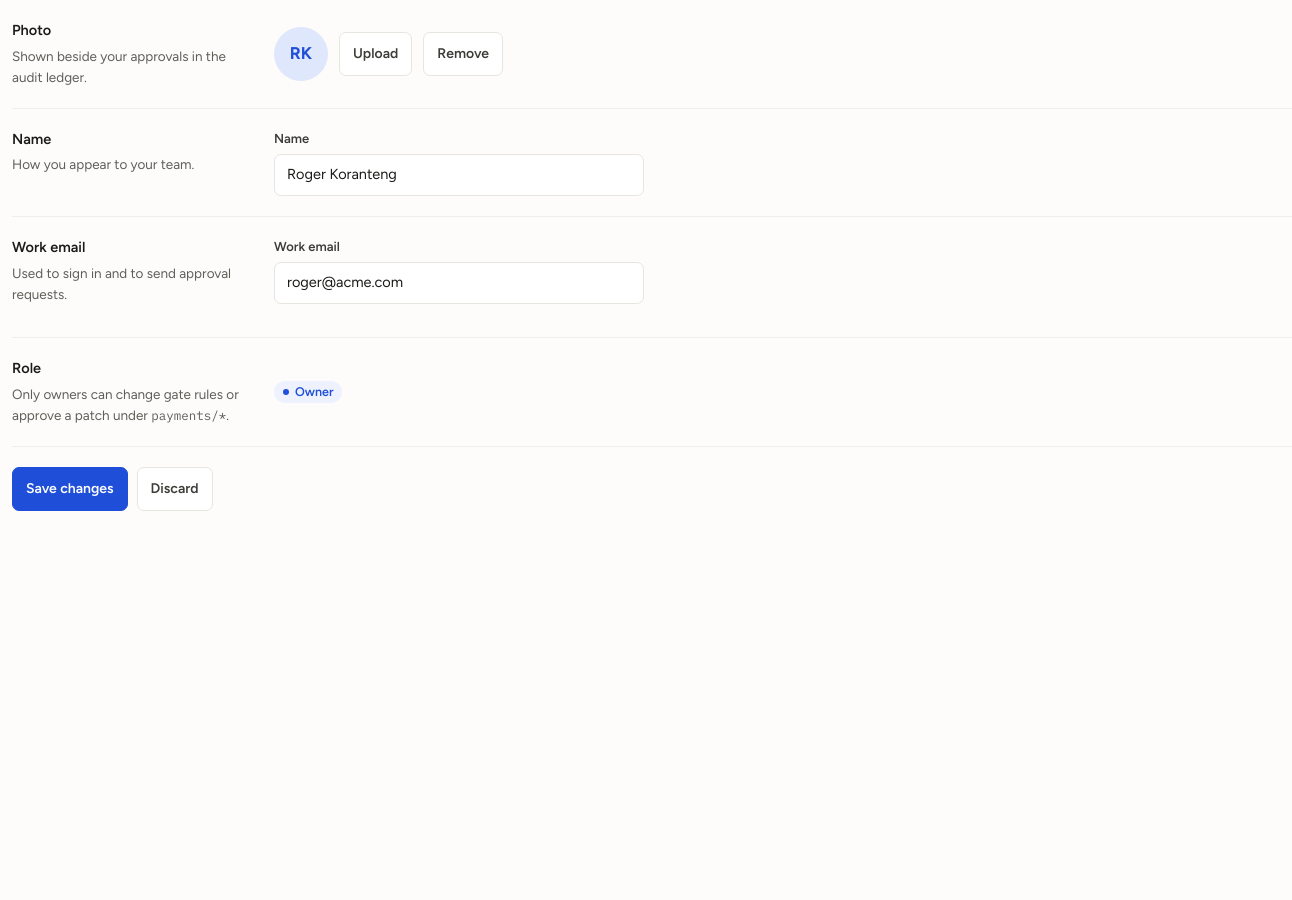
Test: a demo session saving the profile is told nothing was saved, not given the real success toast
This screenshot has width=1292, height=900.
Click the button "Save changes" at (70, 489), box [12, 467, 128, 511]
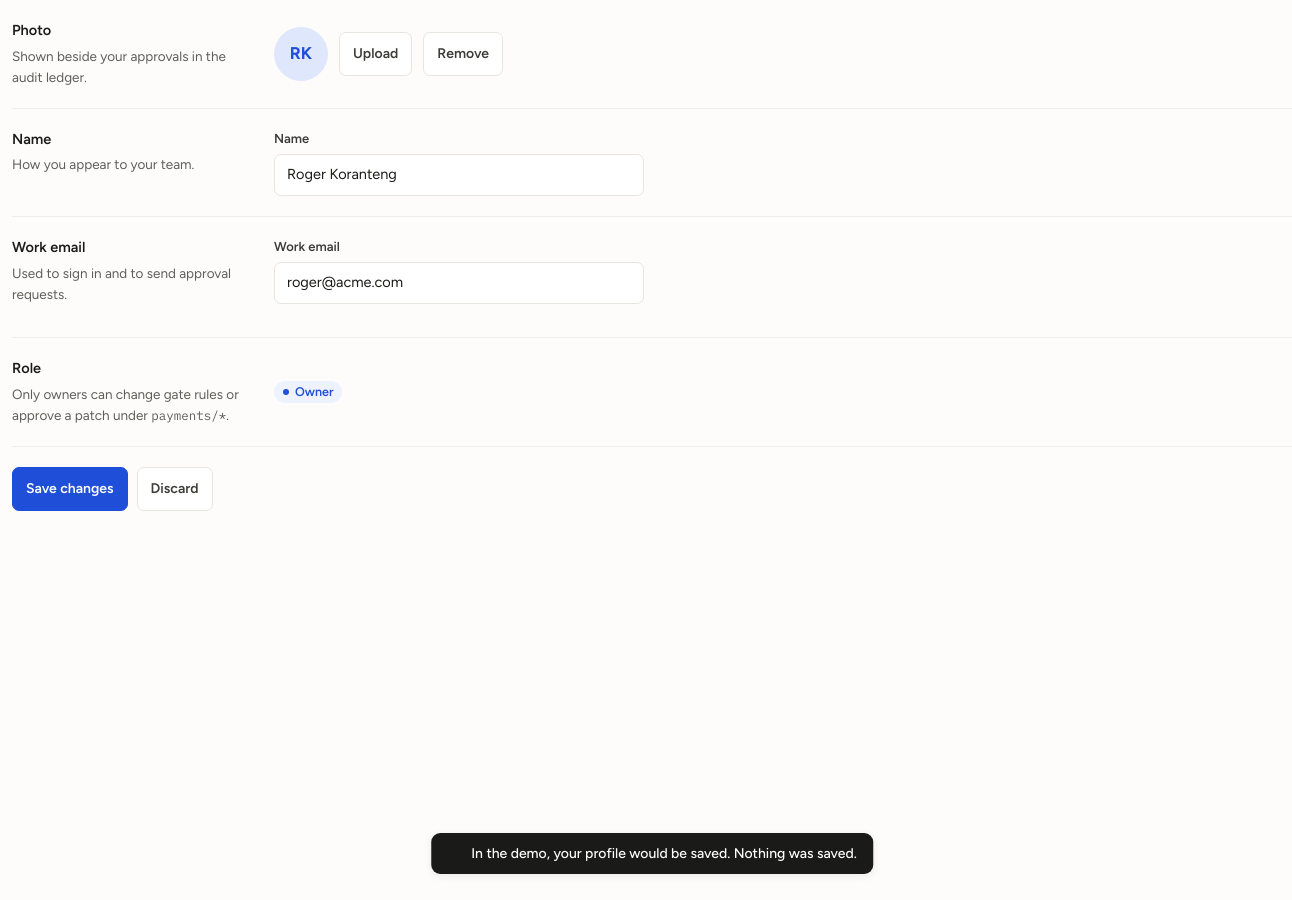
Expected: the text "In the demo, your profile would be saved. Nothing was saved." is shown, [431, 833, 873, 874]
